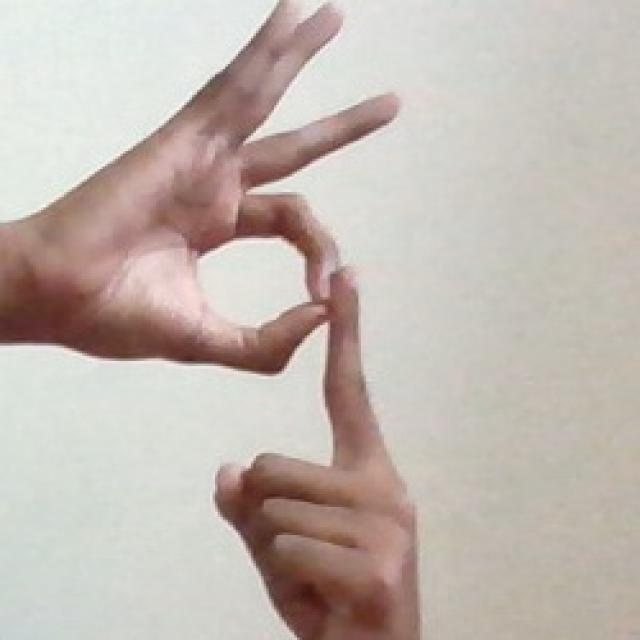Alphabet-P: (34, 0, 518, 640)
